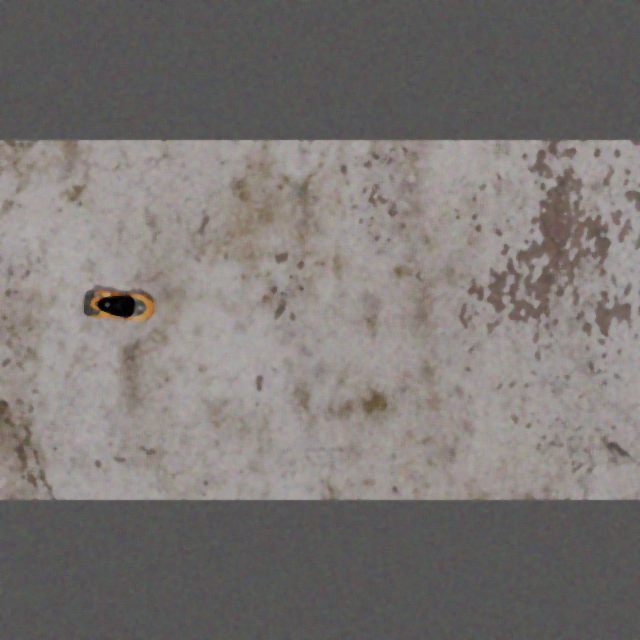car: (81, 287, 156, 324)
